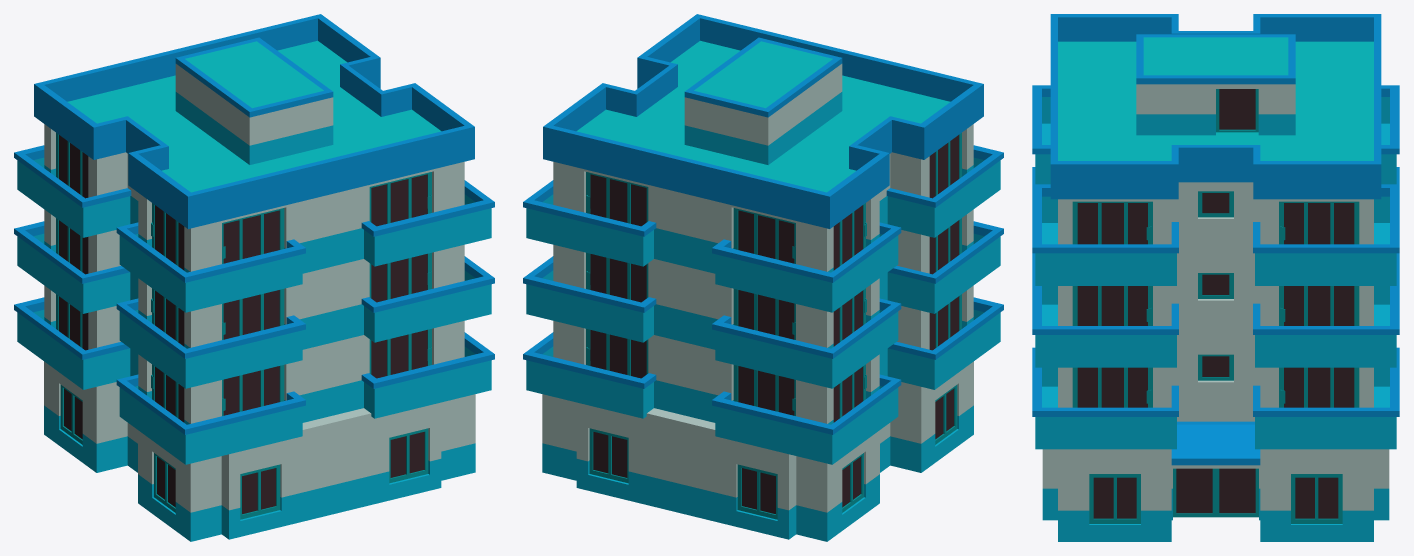
File: building_1.glb
3 views of the same model, side by side, from view 1: azimuth 30°, elevation 25°; view 2: azimuth 150°, elevation 25°; view 3: azimuth 270°, elevation 25° (orthographic). The views are drawn at different scales.
Visible parts, largest first — view 1: PublicBuilding_8; view 2: PublicBuilding_8; view 3: PublicBuilding_8.
Part boxes in pixels (x1,y1,x2,y2): PublicBuilding_8: (14,14,494,541); PublicBuilding_8: (523,14,1003,541); PublicBuilding_8: (1032,14,1399,541).
Bounding box in the file's own units: 5.74 × 6.72 × 5.48.
Materials: 1 (1 with a texture image).
